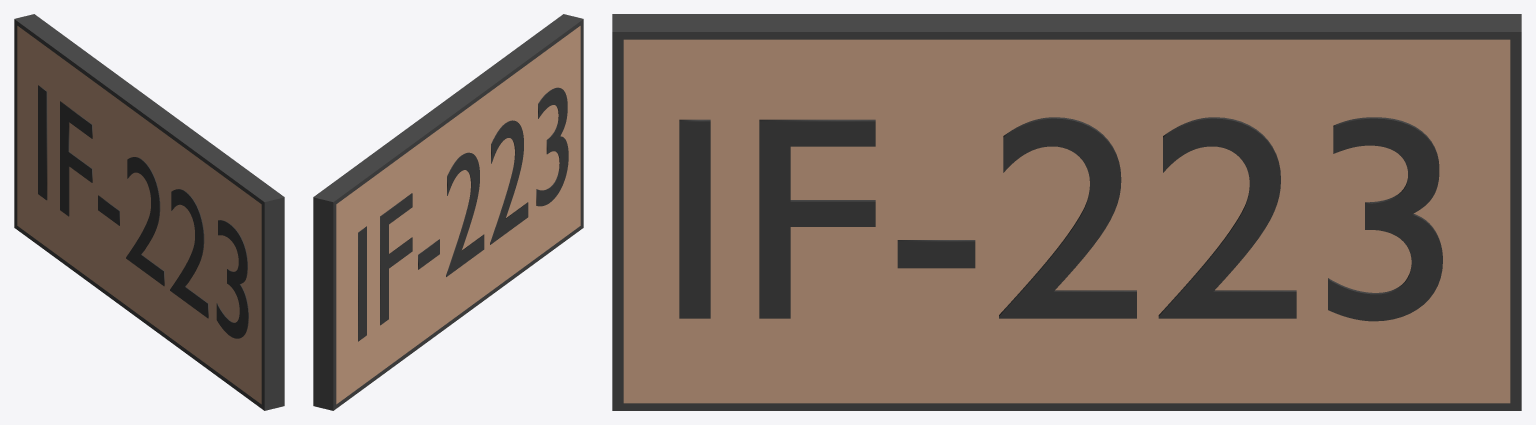
3 views of the same model, side by side, from view 1: azimuth 30°, elevation 25°; view 2: azimuth 150°, elevation 25°; view 3: azimuth 270°, elevation 25° (orthographic). The views are drawn at different scales.
Parts seen in each view (by area): view 1: Cube, Text.001; view 2: Cube, Text.001; view 3: Cube, Text.
Boxes of the visible parts, box(x1,y1,x2,y2) form: Cube: box(14, 14, 284, 410); Text.001: box(38, 85, 248, 338); Cube: box(313, 14, 583, 410); Text.001: box(358, 87, 568, 341); Cube: box(612, 14, 1521, 410); Text: box(679, 117, 1442, 321).
Bounding box in the file's own units: 11.55 × 102 × 222.
